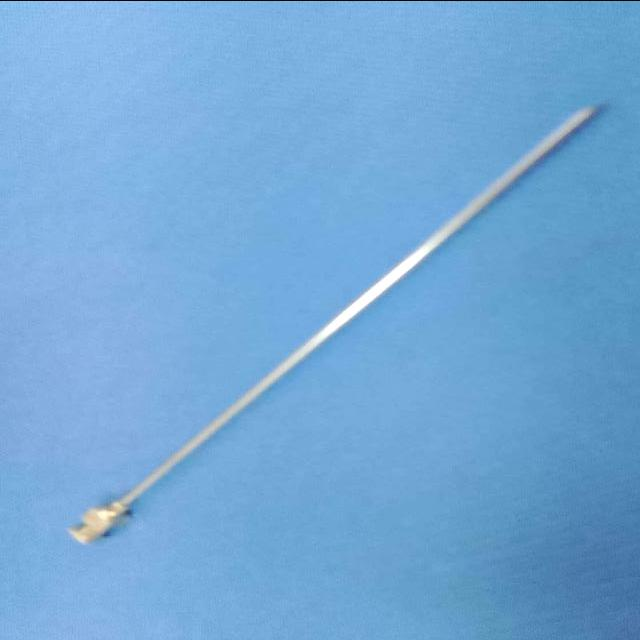Infectious: (66, 499, 132, 543)
Sharps: (66, 103, 601, 543)
